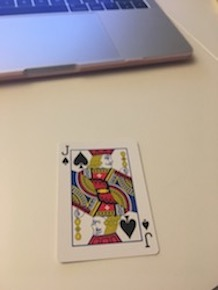JackOfSpades: (50, 137, 165, 272)
